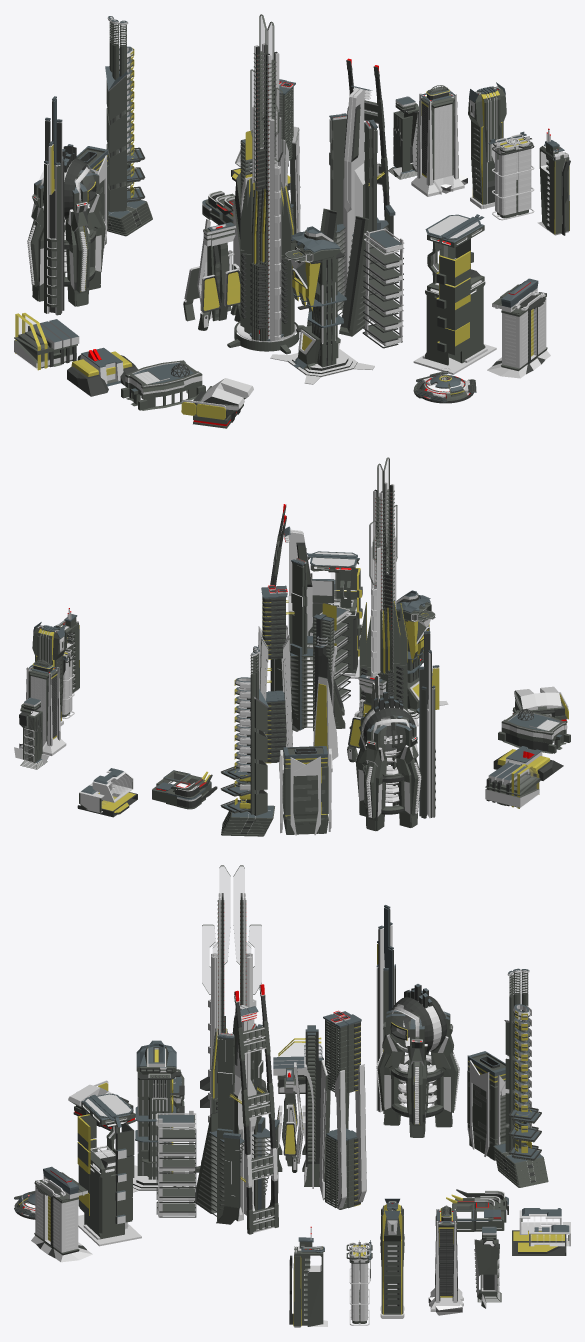
The model's file is Island_Buildings.glb.
3 renders of one model, top to bottom at view 1: azimuth 30°, elevation 25°; view 2: azimuth 150°, elevation 25°; view 3: azimuth 270°, elevation 25°, orthographic. The views are drawn at different scales.
Parts seen in each view (by area): view 1: Obj3d66-14372305-220-34, Obj3d66-14372305-206-98, Obj3d66-14372305-195-704, Obj3d66-14372305-44-27, Obj3d66-14372305-142-457, Obj3d66-14372305-101-935, Obj3d66-14372305-57-882, Obj3d66-14372305-147-679, Obj3d66-14372305-34-703, Obj3d66-14372305-104-964, Obj3d66-14372305-192-917, Obj3d66-14372305-66-562 (+12 smaller); view 2: Obj3d66-14372305-220-34, Obj3d66-14372305-142-457, Obj3d66-14372305-101-935, Obj3d66-14372305-206-98, Obj3d66-14372305-128-576, Obj3d66-14372305-72-690, Obj3d66-14372305-195-704, Obj3d66-14372305-125-736, Obj3d66-14372305-192-917, Obj3d66-14372305-44-27, Obj3d66-14372305-57-882, Obj3d66-14372305-24-861.001 (+11 smaller); view 3: Obj3d66-14372305-206-98, Obj3d66-14372305-142-457, Obj3d66-14372305-72-690, Obj3d66-14372305-195-704, Obj3d66-14372305-101-935, Obj3d66-14372305-220-34, Obj3d66-14372305-44-27, Obj3d66-14372305-147-679, Obj3d66-14372305-104-964, Obj3d66-14372305-128-576, Obj3d66-14372305-182-86, Obj3d66-14372305-66-562 (+10 smaller).
Part boxes in pixels (bbox=[...]): Obj3d66-14372305-220-34: bbox=[227, 14, 305, 354]; Obj3d66-14372305-206-98: bbox=[307, 58, 395, 336]; Obj3d66-14372305-195-704: bbox=[413, 214, 496, 374]; Obj3d66-14372305-44-27: bbox=[270, 226, 374, 384]; Obj3d66-14372305-142-457: bbox=[27, 144, 105, 306]; Obj3d66-14372305-101-935: bbox=[105, 16, 152, 236]; Obj3d66-14372305-57-882: bbox=[411, 85, 467, 196]; Obj3d66-14372305-147-679: bbox=[362, 228, 404, 348]; Obj3d66-14372305-34-703: bbox=[183, 218, 240, 330]; Obj3d66-14372305-104-964: bbox=[487, 278, 550, 378]; Obj3d66-14372305-192-917: bbox=[44, 96, 64, 315]; Obj3d66-14372305-66-562: bbox=[468, 82, 506, 209]; Obj3d66-14372305-220-34: bbox=[349, 457, 417, 744]; Obj3d66-14372305-142-457: bbox=[355, 691, 421, 831]; Obj3d66-14372305-101-935: bbox=[220, 646, 274, 836]; Obj3d66-14372305-206-98: bbox=[267, 504, 345, 731]; Obj3d66-14372305-128-576: bbox=[279, 746, 332, 835]; Obj3d66-14372305-72-690: bbox=[258, 585, 292, 763]; Obj3d66-14372305-195-704: bbox=[307, 551, 362, 678]; Obj3d66-14372305-125-736: bbox=[313, 603, 338, 760]; Obj3d66-14372305-192-917: bbox=[419, 630, 439, 818]; Obj3d66-14372305-44-27: bbox=[396, 590, 448, 726]; Obj3d66-14372305-57-882: bbox=[19, 659, 66, 755]; Obj3d66-14372305-24-861.001: bbox=[498, 708, 570, 753]; Obj3d66-14372305-206-98: bbox=[194, 984, 279, 1234]; Obj3d66-14372305-142-457: bbox=[376, 984, 459, 1137]; Obj3d66-14372305-72-690: bbox=[319, 1010, 366, 1209]; Obj3d66-14372305-195-704: bbox=[77, 1093, 141, 1246]; Obj3d66-14372305-101-935: bbox=[493, 968, 548, 1187]; Obj3d66-14372305-220-34: bbox=[193, 865, 261, 1172]; Obj3d66-14372305-44-27: bbox=[133, 1040, 195, 1192]; Obj3d66-14372305-147-679: bbox=[156, 1110, 196, 1217]; Obj3d66-14372305-104-964: bbox=[31, 1166, 92, 1262]; Obj3d66-14372305-128-576: bbox=[467, 1051, 509, 1160]; Obj3d66-14372305-182-86: bbox=[289, 1226, 327, 1327]; Obj3d66-14372305-66-562: bbox=[380, 1198, 404, 1318].
Size of the model in its own units: 1.22 by 0.6883 by 1.14.
